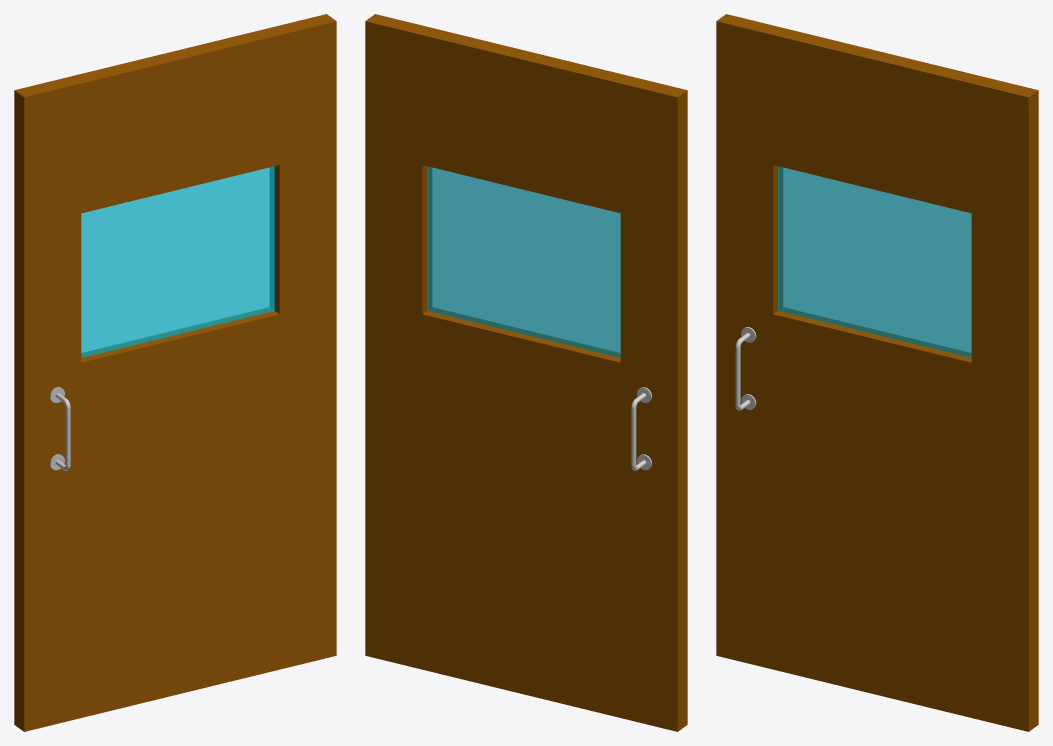
File: puerta_single.glb
The picture shows the model from 3 angles, left to right: view 1: azimuth 30°, elevation 25°; view 2: azimuth 150°, elevation 25°; view 3: azimuth 330°, elevation 25°; orthographic projection.
Visible parts, largest first — view 1: Asset3DLoader.sceneRoot; view 2: Asset3DLoader.sceneRoot; view 3: Asset3DLoader.sceneRoot.
Boxes of the visible parts, left/top/right/bottom form: Asset3DLoader.sceneRoot: left=14, top=14, right=336, bottom=731; Asset3DLoader.sceneRoot: left=365, top=14, right=687, bottom=731; Asset3DLoader.sceneRoot: left=716, top=14, right=1038, bottom=731.
Size of the model in its own units: 1095 by 2125 by 210.
